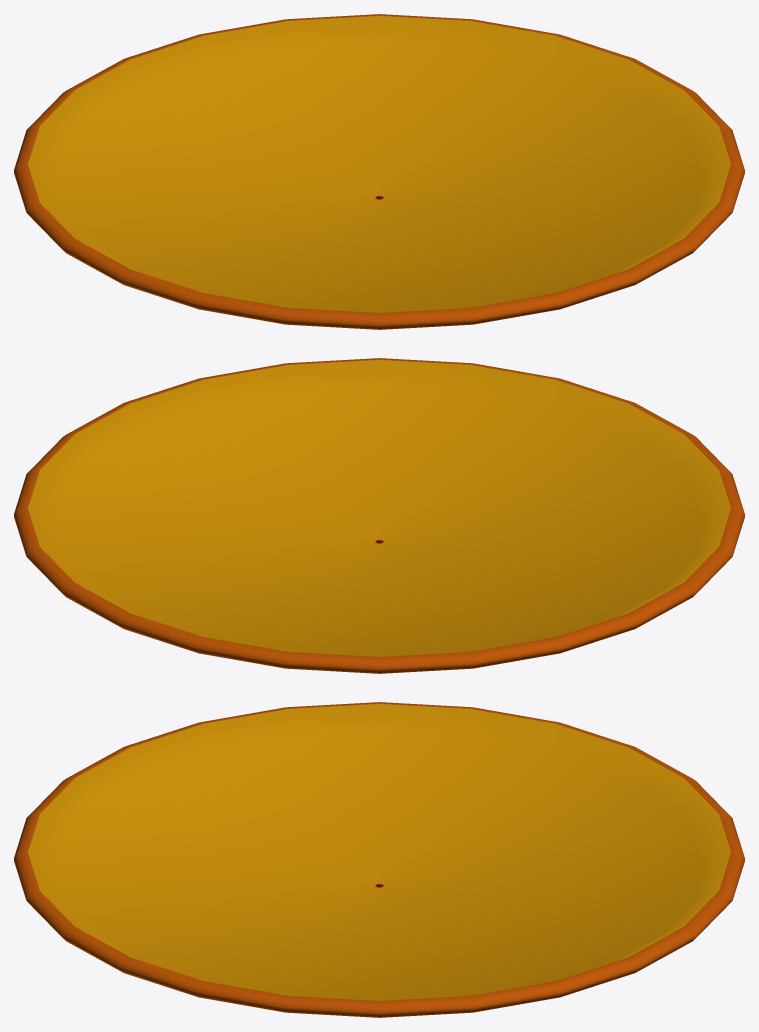
The model's file is Plato2.fbx.
3 renders of one model, top to bottom at view 1: azimuth 30°, elevation 25°; view 2: azimuth 150°, elevation 25°; view 3: azimuth 270°, elevation 25°, orthographic.
Visible parts, largest first — view 1: Cylinder.006; view 2: Cylinder.006; view 3: Cylinder.006.
Part boxes in pixels (<box>): Cylinder.006: <box>14,14,744,329</box>; Cylinder.006: <box>14,358,744,673</box>; Cylinder.006: <box>14,702,744,1017</box>.
Size of the model in its own units: 470 by 26.87 by 470.
